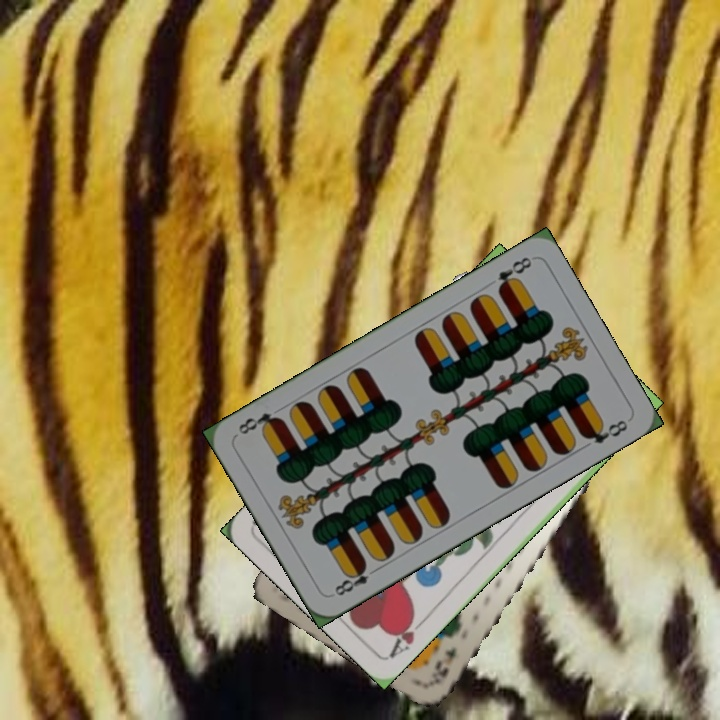E8: (330, 559, 382, 599), (493, 252, 535, 295)
EK: (429, 643, 459, 681)
HA: (385, 609, 431, 661)
